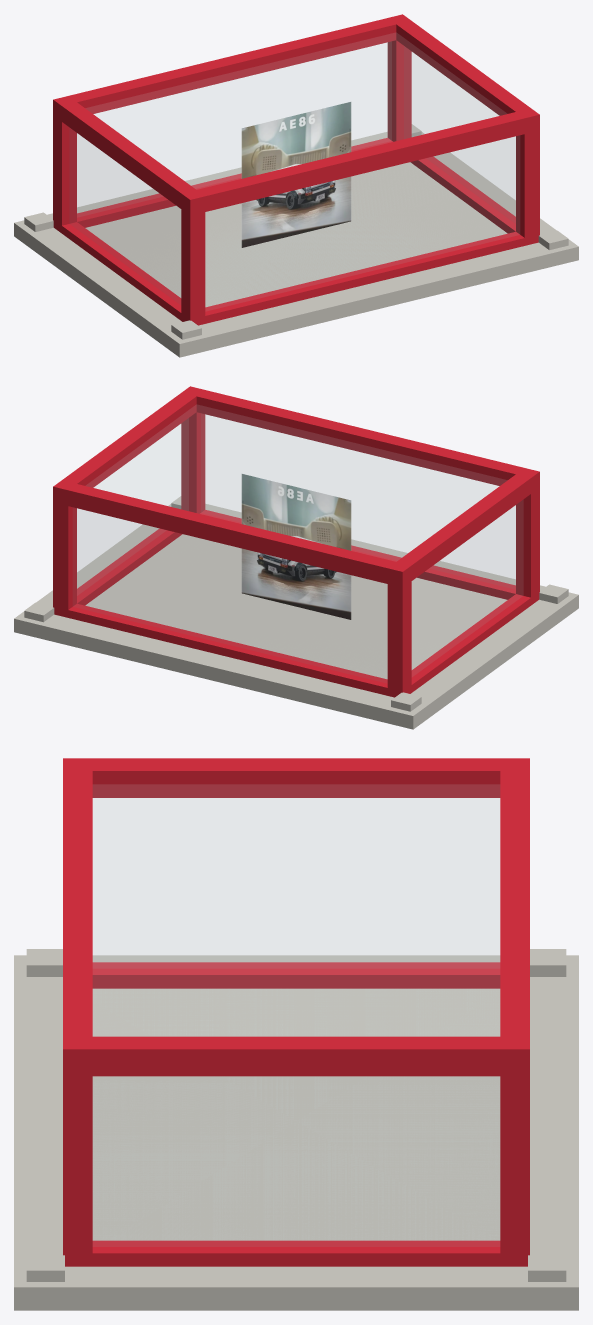
The model's file is toyota-trueno-ae86.glb.
3 views of the same model, one above another, from view 1: azimuth 30°, elevation 25°; view 2: azimuth 150°, elevation 25°; view 3: azimuth 270°, elevation 25° (orthographic). The views are drawn at different scales.
Size of the model in its own units: 0.185 by 0.0625 by 0.133.
4 materials, 1 textured.
